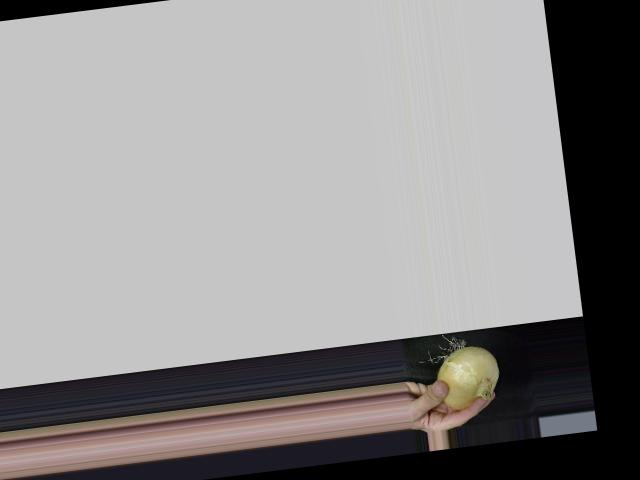onion: (434, 342, 501, 413)
